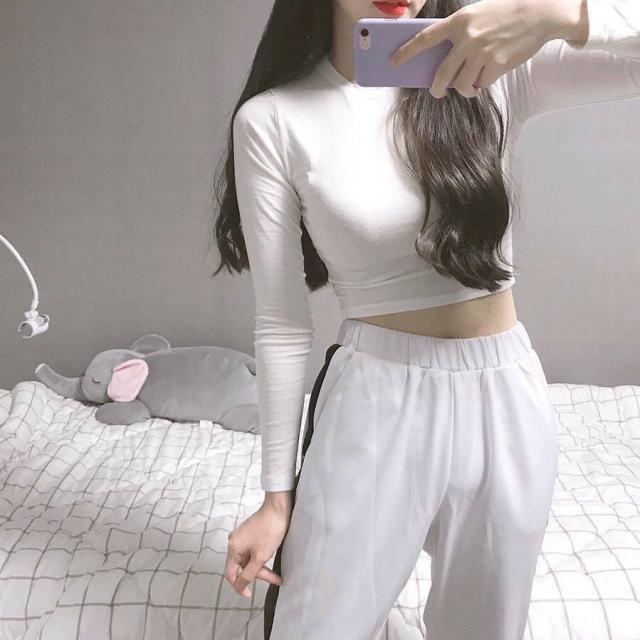Shirt: (207, 3, 639, 444)
